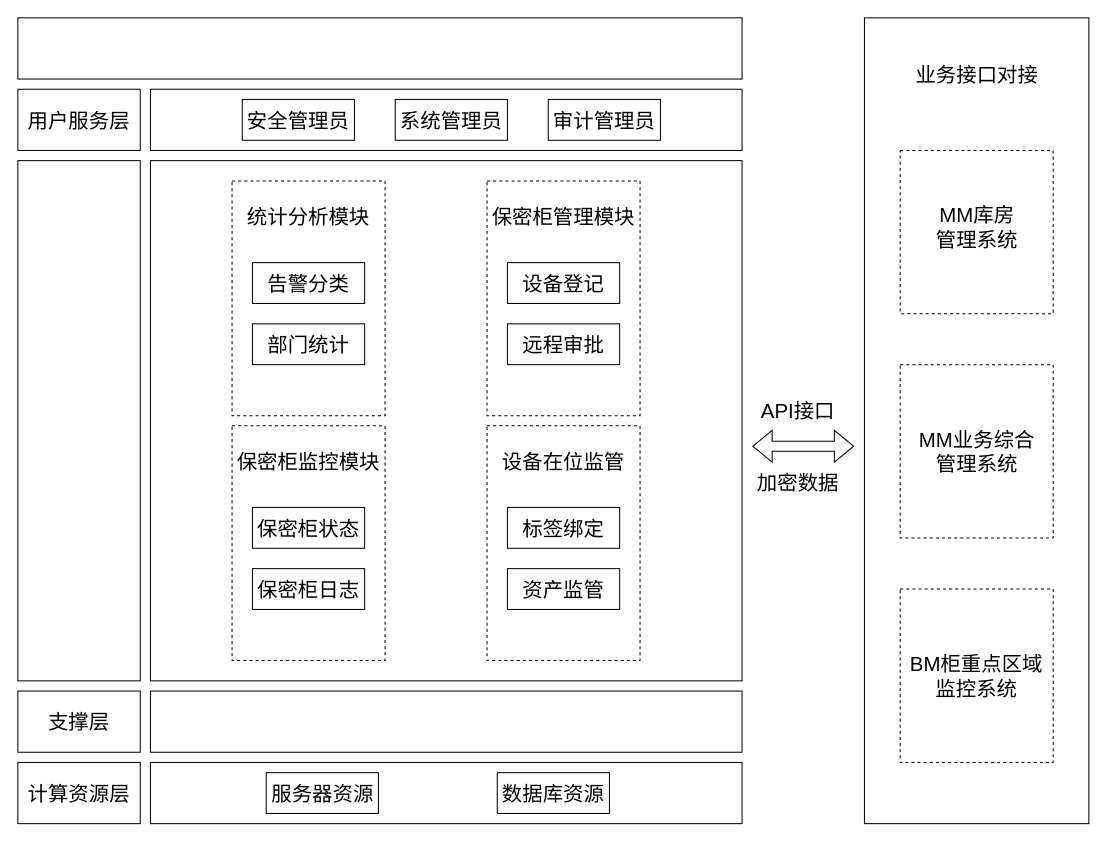
Image size: 1107x842. Some labels were removed from this diagram. Each missing label, with the box of its shape:
保密柜安全监管系统: (17, 17, 742, 79)
应用层: (17, 160, 140, 681)
用户: (149, 88, 742, 150)
统一身份认证平台: (149, 690, 742, 752)
